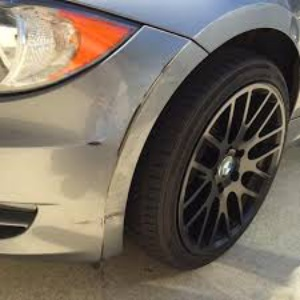bumper_scratch: (70, 112, 139, 172)
